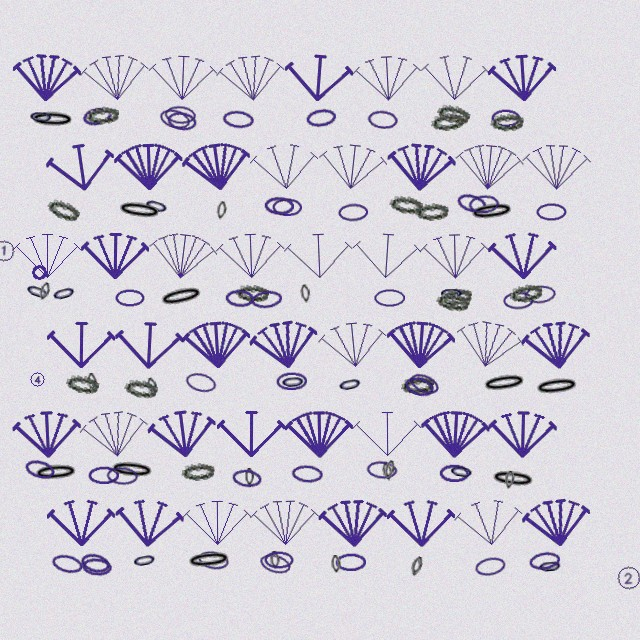chain: (158, 283, 205, 310), (481, 371, 528, 395), (116, 199, 163, 222), (469, 200, 515, 223), (534, 375, 580, 398), (45, 196, 82, 224), (109, 459, 155, 481), (490, 468, 536, 490), (186, 549, 232, 571), (33, 462, 79, 483), (407, 370, 441, 398), (158, 106, 192, 132), (258, 551, 292, 577), (508, 281, 544, 305), (30, 110, 75, 129), (184, 370, 218, 395), (436, 102, 471, 126), (438, 285, 473, 309), (455, 191, 488, 216), (403, 374, 436, 399), (23, 457, 56, 482), (50, 552, 84, 576), (430, 110, 465, 133), (79, 551, 112, 575), (85, 104, 120, 126), (65, 373, 100, 395), (400, 374, 435, 396), (81, 105, 114, 128), (197, 549, 230, 572), (474, 555, 507, 578), (528, 550, 561, 572), (23, 279, 52, 304), (415, 201, 449, 222), (389, 194, 423, 215), (436, 291, 470, 312), (124, 378, 158, 399), (181, 461, 215, 482), (166, 110, 198, 132), (305, 107, 337, 129), (142, 194, 171, 218), (250, 289, 283, 310), (490, 112, 524, 132), (222, 109, 254, 130), (50, 281, 78, 305), (524, 284, 556, 305), (231, 468, 263, 489), (367, 109, 398, 130), (164, 105, 196, 125), (468, 194, 500, 214), (106, 466, 138, 486), (291, 464, 323, 484), (366, 460, 398, 480), (81, 557, 112, 577), (336, 373, 364, 395), (236, 284, 269, 302), (131, 549, 158, 571), (503, 291, 534, 310), (264, 196, 294, 215), (338, 203, 368, 222), (225, 289, 255, 308), (448, 461, 475, 482), (536, 203, 567, 221), (374, 289, 405, 307), (276, 372, 307, 390), (88, 466, 119, 484), (335, 553, 366, 571), (491, 109, 521, 127), (272, 198, 302, 216), (115, 289, 145, 307), (439, 464, 469, 482), (264, 551, 294, 569), (537, 556, 563, 576), (28, 107, 54, 126), (280, 372, 306, 391), (439, 284, 464, 302), (410, 556, 424, 575), (38, 282, 51, 301), (146, 377, 159, 396), (381, 462, 394, 481), (383, 460, 396, 479), (410, 558, 422, 577), (216, 201, 227, 220), (300, 284, 311, 303), (504, 471, 515, 489), (87, 373, 97, 391), (270, 551, 280, 569), (331, 555, 341, 573), (245, 468, 254, 486)
fan: (451, 313, 527, 376), (247, 314, 322, 375), (44, 137, 118, 197), (180, 137, 254, 196), (520, 493, 594, 552), (146, 404, 219, 463), (146, 227, 219, 285), (520, 316, 593, 374), (78, 405, 151, 463), (316, 138, 389, 195), (79, 49, 151, 106), (317, 316, 389, 373), (453, 494, 525, 551), (215, 50, 287, 106), (385, 139, 457, 195), (453, 139, 525, 195), (113, 495, 185, 551), (11, 50, 82, 105), (283, 50, 354, 105), (487, 50, 558, 105), (249, 139, 320, 194), (351, 228, 422, 283), (181, 317, 252, 372), (385, 317, 456, 372), (352, 51, 422, 105), (114, 318, 184, 372), (12, 407, 82, 461), (420, 407, 490, 461), (318, 496, 388, 550), (420, 51, 490, 104), (148, 51, 217, 104), (114, 140, 183, 193), (216, 229, 285, 282), (284, 229, 353, 282), (488, 229, 557, 282), (250, 496, 319, 549), (522, 141, 591, 193), (420, 230, 489, 282), (488, 408, 557, 460), (285, 408, 353, 460), (387, 497, 455, 549), (13, 230, 81, 281), (81, 230, 149, 281), (47, 319, 115, 370), (217, 408, 285, 459), (353, 408, 421, 459), (47, 497, 115, 548), (183, 497, 251, 548)
noise: (615, 564, 640, 591), (0, 238, 16, 263), (29, 262, 49, 282), (28, 370, 47, 389)
